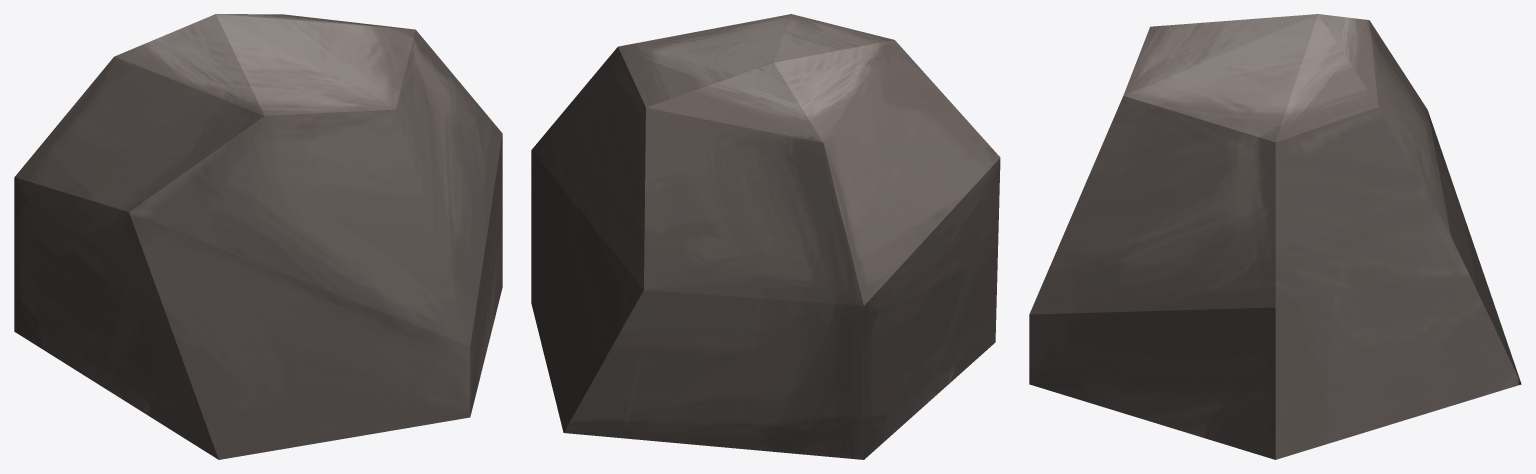
The model's file is Rock.fbx.
The picture shows the model from 3 angles, left to right: view 1: azimuth 30°, elevation 25°; view 2: azimuth 150°, elevation 25°; view 3: azimuth 270°, elevation 25°; orthographic projection.
Parts seen in each view (by area): view 1: pSphere1; view 2: pSphere1; view 3: pSphere1.
Part boxes in pixels (x1,y1,x2,y2): pSphere1: (14,14,502,459); pSphere1: (531,14,1000,459); pSphere1: (1029,14,1521,459).
Bounding box in the file's own units: 1.77 × 1.35 × 1.81.
